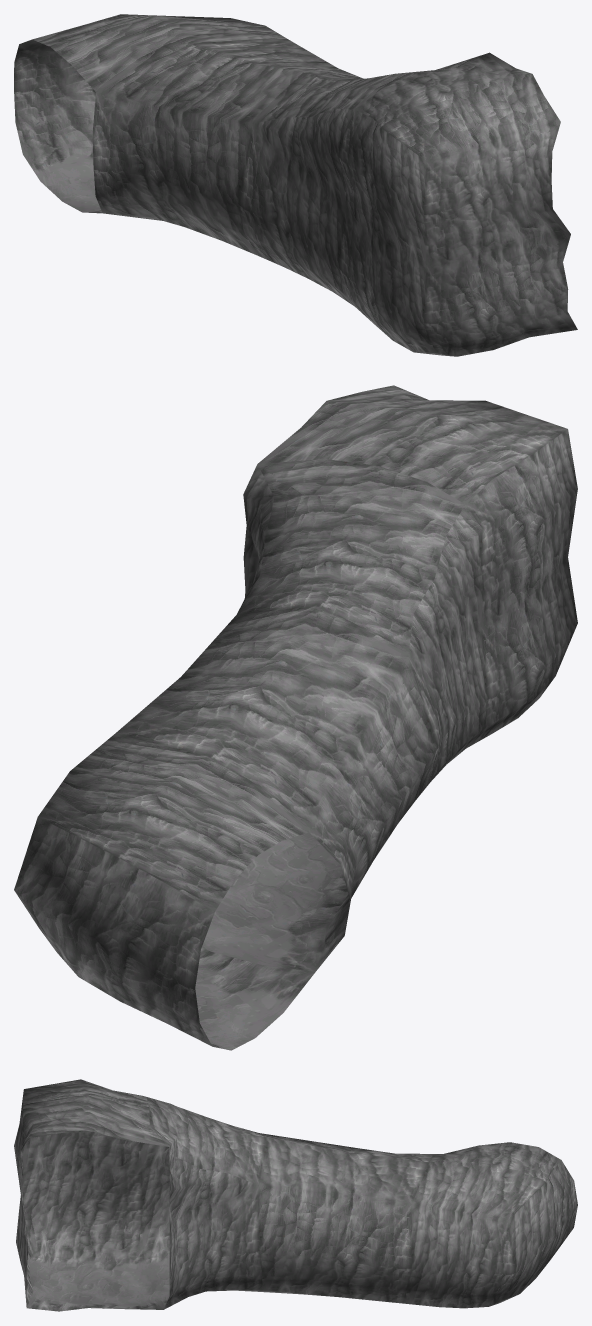
File: SWORDLIGHT20_PS-AREA01-02TRANS_01.fbx
3 renders of one model, top to bottom at view 1: azimuth 30°, elevation 25°; view 2: azimuth 150°, elevation 25°; view 3: azimuth 270°, elevation 25°, orthographic. The views are drawn at different scales.
Visible parts, largest first — view 1: SWORDLIGHT20_PS-AREA01-02TRANS_01; view 2: SWORDLIGHT20_PS-AREA01-02TRANS_01; view 3: SWORDLIGHT20_PS-AREA01-02TRANS_01.
Part boxes in pixels (x1,y1,x2,y2): SWORDLIGHT20_PS-AREA01-02TRANS_01: [14, 14, 577, 356]; SWORDLIGHT20_PS-AREA01-02TRANS_01: [14, 385, 577, 1050]; SWORDLIGHT20_PS-AREA01-02TRANS_01: [14, 1079, 577, 1311].
Size of the model in its own units: 107903 by 114588 by 272232.
3 materials, 3 textured.
